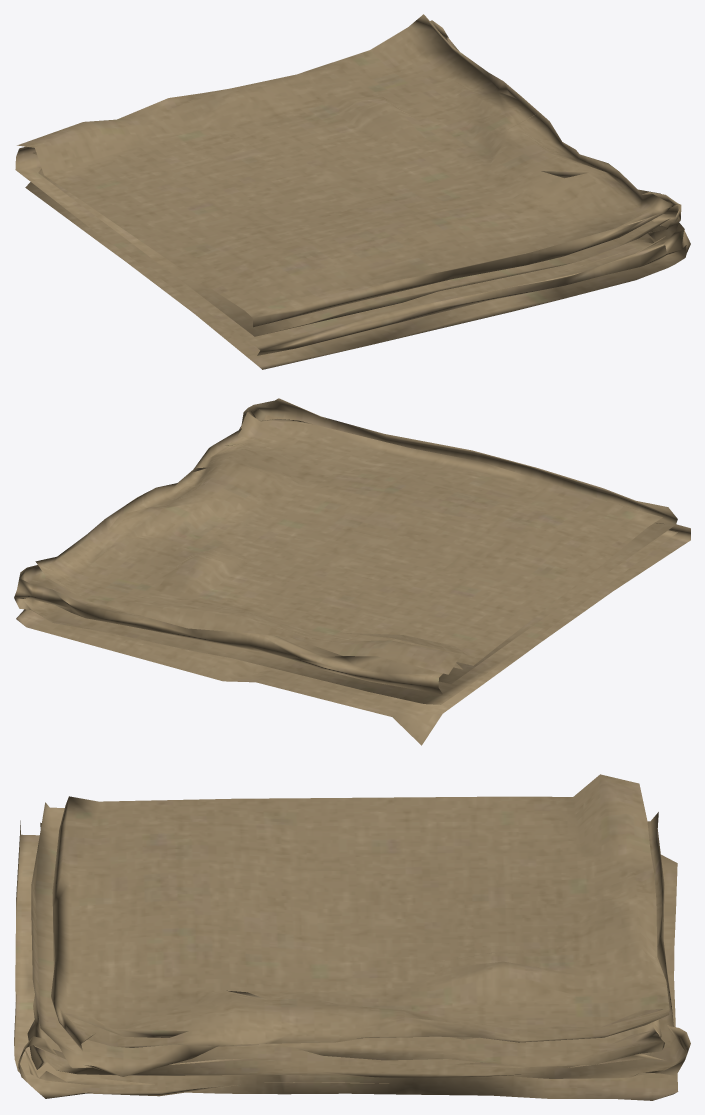
File: hvfold_Plaid_008.glb
The picture shows the model from 3 angles, top to bottom: view 1: azimuth 30°, elevation 25°; view 2: azimuth 150°, elevation 25°; view 3: azimuth 270°, elevation 25°; orthographic projection. The views are drawn at different scales.
Visible parts, largest first — view 1: BP_Plaid_008; view 2: BP_Plaid_008; view 3: BP_Plaid_008.
Boxes of the visible parts, left/top/right/bottom form: BP_Plaid_008: left=15, top=14, right=690, bottom=369; BP_Plaid_008: left=14, top=398, right=690, bottom=745; BP_Plaid_008: left=14, top=774, right=690, bottom=1100.
Size of the model in its own units: 0.2563 by 0.0513 by 0.2744.
1 material, 1 textured.
